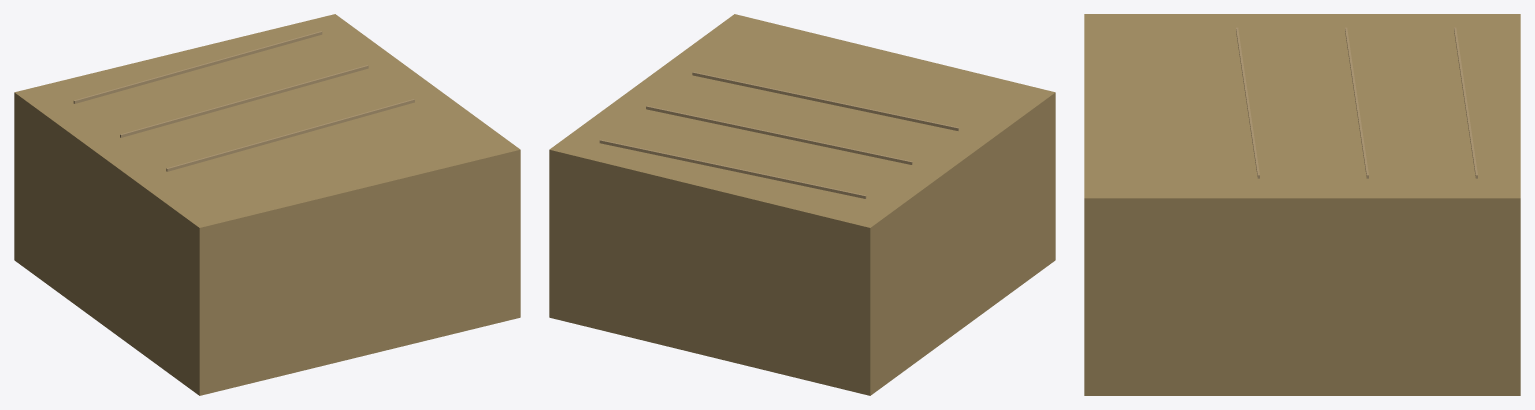
The model's file is terrain-sand-block.lod0.glb.
3 views of the same model, side by side, from view 1: azimuth 30°, elevation 25°; view 2: azimuth 150°, elevation 25°; view 3: azimuth 270°, elevation 25° (orthographic). The views are drawn at different scales.
Parts seen in each view (by area): view 1: terrain-sand-block__body; view 2: terrain-sand-block__body; view 3: terrain-sand-block__body.
Part boxes in pixels (<box>): terrain-sand-block__body: <box>14,14,520,395</box>; terrain-sand-block__body: <box>549,14,1055,395</box>; terrain-sand-block__body: <box>1084,14,1520,395</box>.
Size of the model in its own units: 2 by 1.02 by 2.
